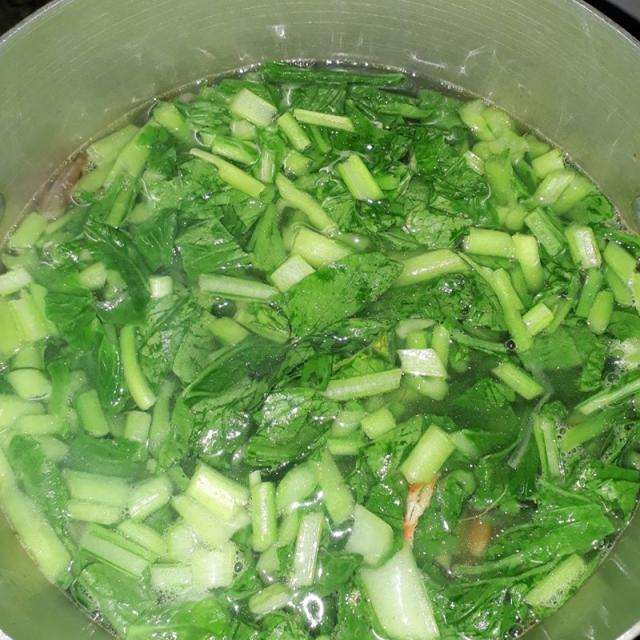canh cai: (0, 63, 639, 639)
